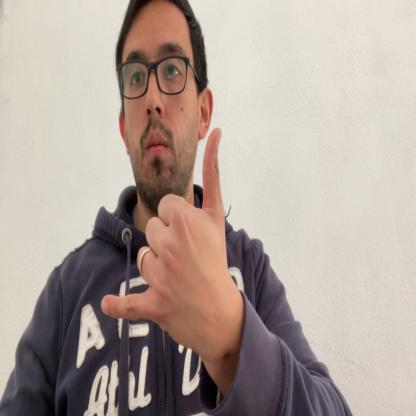Y: (100, 127, 229, 338)
